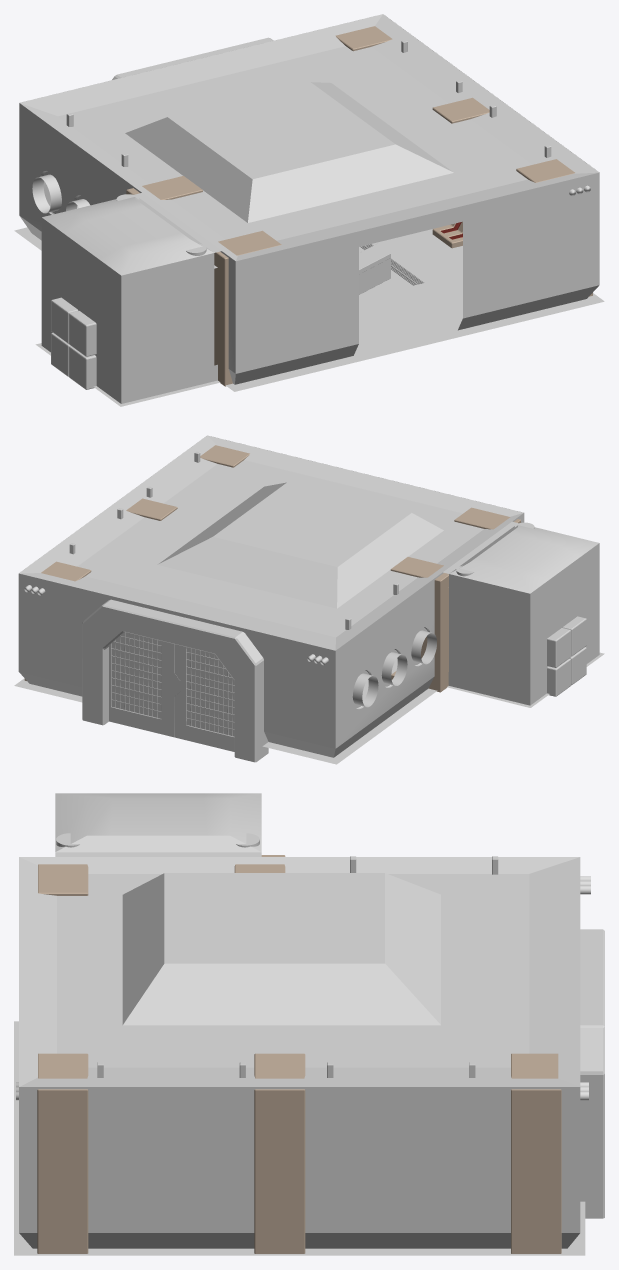
Rendered from Room_1.fbx.
The picture shows the model from 3 angles, top to bottom: view 1: azimuth 30°, elevation 25°; view 2: azimuth 150°, elevation 25°; view 3: azimuth 270°, elevation 25°; orthographic projection. The views are drawn at different scales.
Parts seen in each view (by area): view 1: Roof_Room_1, Floor_Room_1, Room_1, Cube.006, Cube.004, Cube.013, Cube.015, Cube, Cube.017, Cube.001, Cube.005, Arka_Gate (+2 smaller); view 2: Roof_Room_1, Floor_Room_1, Arka_Gate, Gate-Right, Gate_Left, Cube, Room_1, Cube.019, Cube.006, Cube.021, Cube.004, Cube.005 (+3 smaller); view 3: Roof_Room_1, Floor_Room_1, Cube.004, Cube.005, Cube.001, Arka_Gate, Room_1, Cube.006.
Part boxes in pixels (left/top/right/bottom): Roof_Room_1: left=19, top=14, right=599, bottom=261; Floor_Room_1: left=19, top=103, right=599, bottom=403; Room_1: left=14, top=227, right=604, bottom=406; Cube.006: left=214, top=230, right=281, bottom=386; Cube.004: left=432, top=97, right=489, bottom=248; Cube.013: left=359, top=243, right=390, bottom=294; Cube.015: left=69, top=310, right=96, bottom=356; Cube: left=126, top=176, right=202, bottom=199; Cube.017: left=69, top=346, right=96, bottom=389; Cube.001: left=335, top=26, right=392, bottom=51; Cube.005: left=516, top=159, right=592, bottom=296; Arka_Gate: left=112, top=37, right=273, bottom=79; Roof_Room_1: left=19, top=435, right=523, bottom=650; Floor_Room_1: left=18, top=513, right=599, bottom=757; Arka_Gate: left=82, top=599, right=268, bottom=762; Gate-Right: left=109, top=632, right=180, bottom=737; Gate_Left: left=174, top=644, right=234, bottom=751; Cube: left=390, top=557, right=448, bottom=692; Room_1: left=14, top=652, right=604, bottom=764; Cube.019: left=547, top=628, right=570, bottom=667; Cube.006: left=454, top=507, right=520, bottom=529; Cube.021: left=547, top=658, right=570, bottom=696; Cube.004: left=126, top=498, right=177, bottom=520; Cube.005: left=200, top=445, right=249, bottom=467; Roof_Room_1: left=19, top=857, right=580, bottom=1086; Floor_Room_1: left=19, top=793, right=580, bottom=1248; Cube.004: left=254, top=1053, right=305, bottom=1253; Cube.005: left=37, top=1053, right=88, bottom=1253; Cube.001: left=511, top=1053, right=561, bottom=1253; Arka_Gate: left=580, top=929, right=604, bottom=1218; Room_1: left=14, top=1021, right=585, bottom=1255; Cube.006: left=38, top=864, right=88, bottom=895.
Bounding box in the file's own units: 1534 × 505 × 1267.
